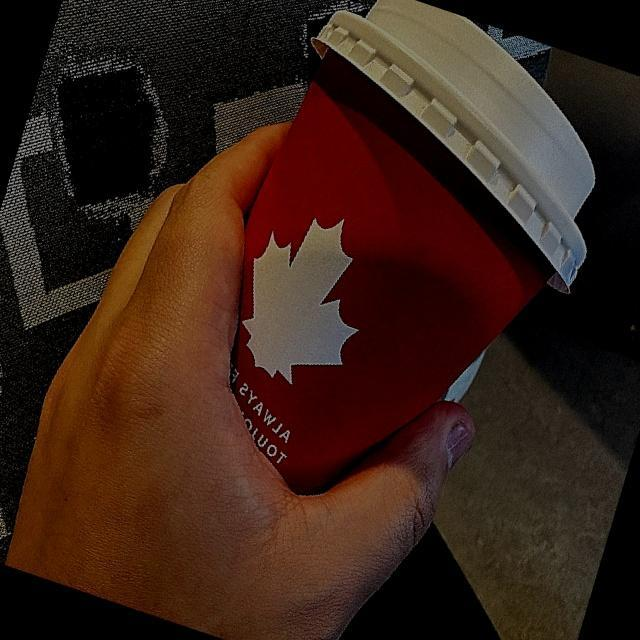timmies: (221, 0, 611, 498)
